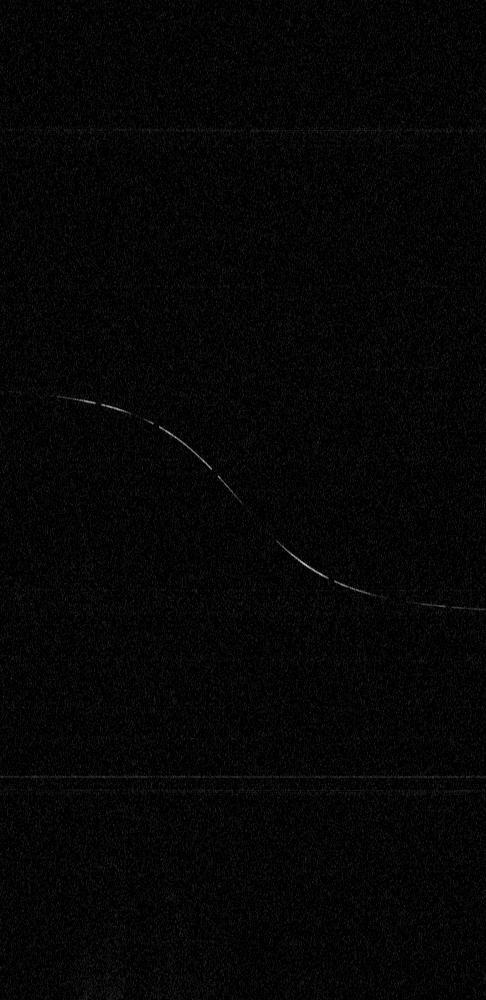signal: (0, 0, 485, 999)
